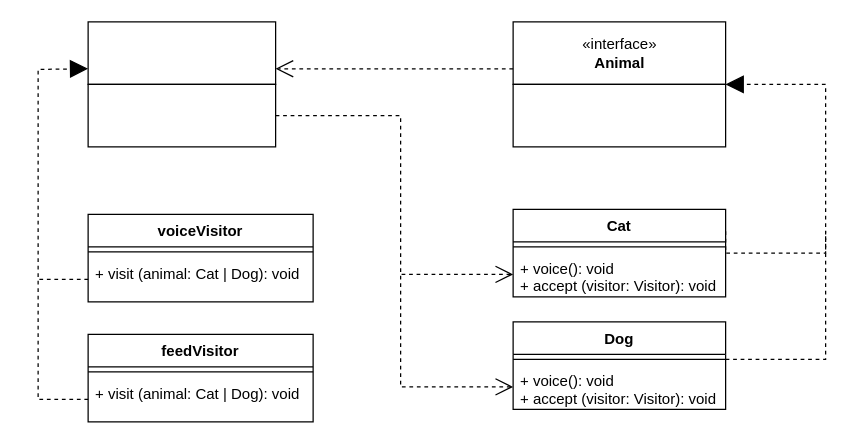
Some shapes in this 865 by 448 pixel diagram are drawn without their labels. Each missing label, with the centre of its shape:
"+ accept (visitor: Visitor): void" belongs at point (619, 115).
"+ visit(cat: Cat): void + visit(dog: Dog): void" belongs at point (181, 115).
"«interface» Visitor" belongs at point (181, 52).
